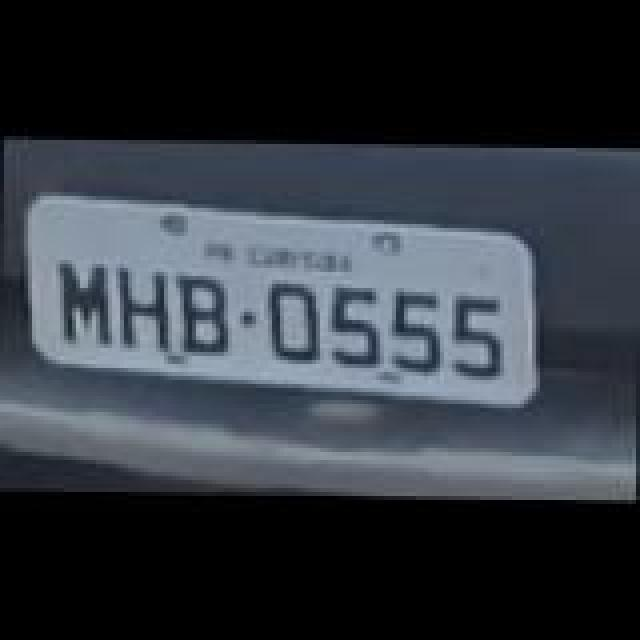5: (322, 286, 390, 370), (382, 292, 450, 376), (446, 296, 514, 380)
B: (174, 274, 242, 354)
D: (262, 282, 330, 366)
H: (114, 268, 182, 356)
M: (54, 260, 122, 348)
